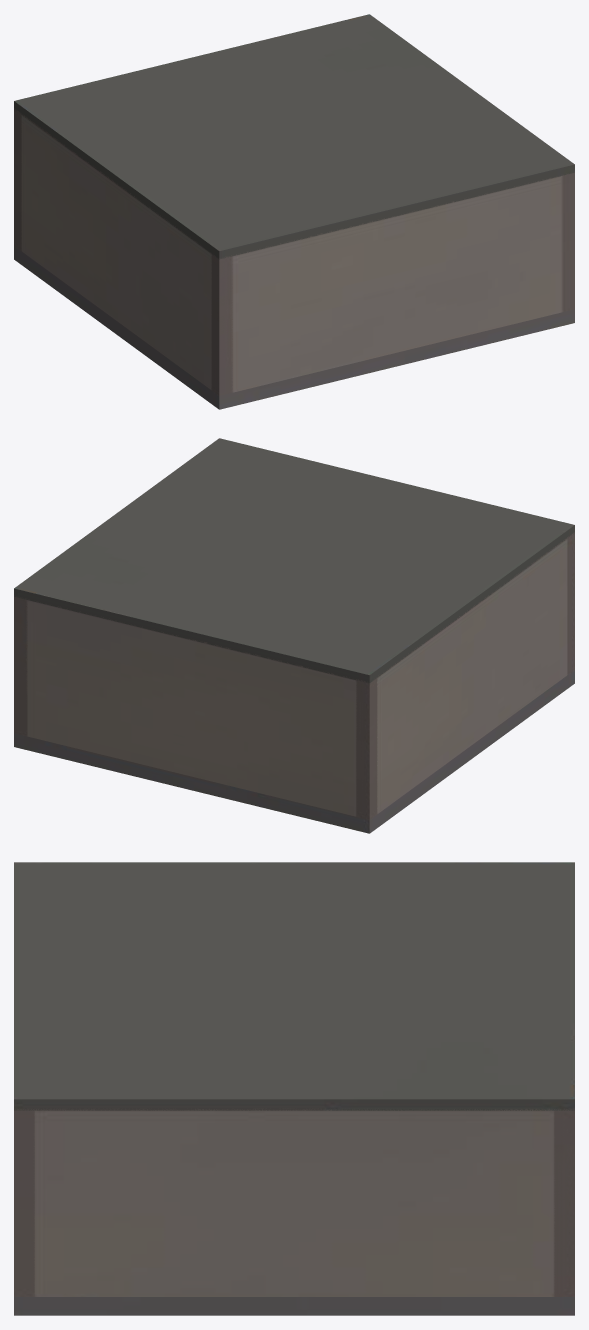
Rendered from arena.glb.
3 renders of one model, top to bottom at view 1: azimuth 30°, elevation 25°; view 2: azimuth 150°, elevation 25°; view 3: azimuth 270°, elevation 25°, orthographic. The views are drawn at different scales.
Parts seen in each view (by area): view 1: main; view 2: main; view 3: main.
Boxes of the visible parts, box(x1,y1,x2,y2) form: main: box(14, 14, 574, 409); main: box(14, 438, 574, 833); main: box(14, 862, 574, 1315).
Bounding box in the file's own units: 27 × 11.5 × 27.
2 materials, 1 textured.
